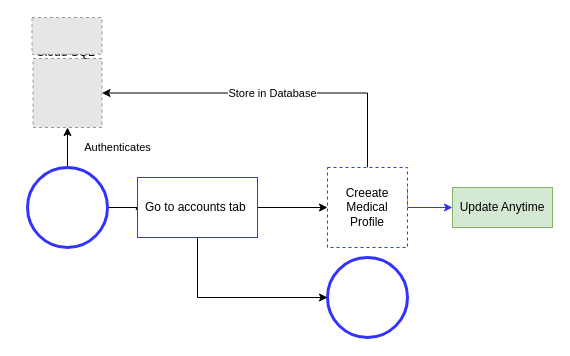
Some shapes in this 570 by 356 pixel diagram are drawn without their labels. Grey dashed boxes stand in for pictures. Each missing label, with the centre of its shape:
"Access Diagnosis History" belongs at point 367,297.
"Register & Login" belongs at point 67,207.
